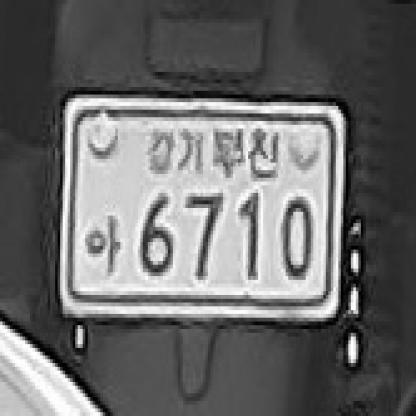bnum: (56, 86, 349, 327)
